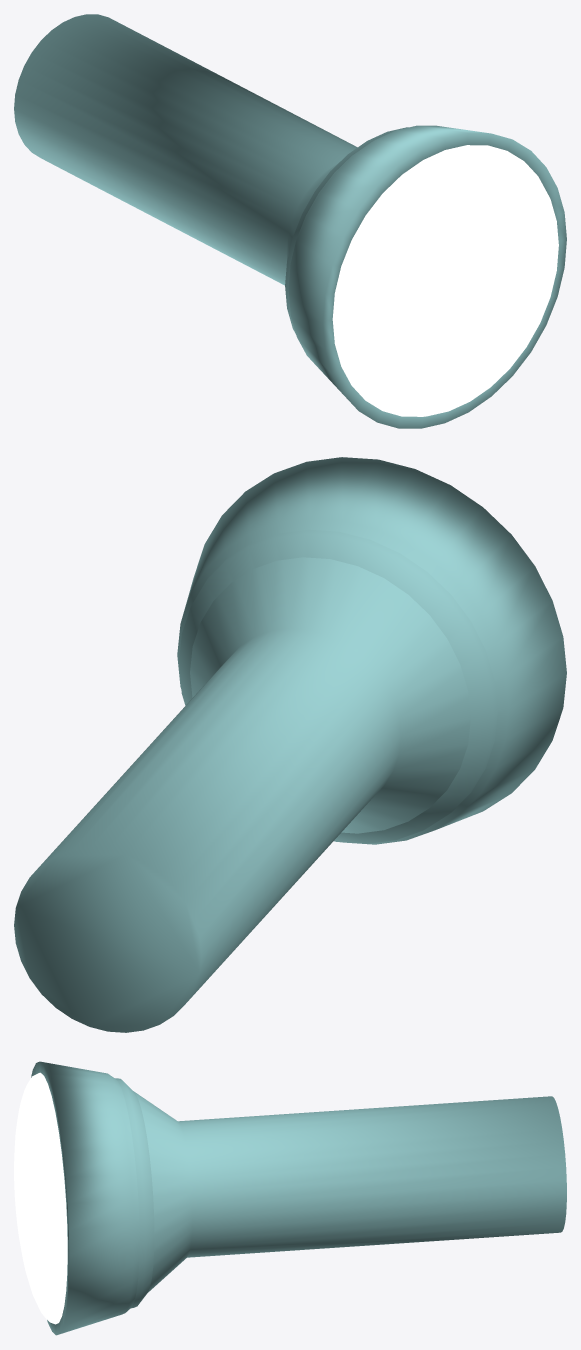
The model's file is flashlight.glb.
The picture shows the model from 3 angles, top to bottom: view 1: azimuth 30°, elevation 25°; view 2: azimuth 150°, elevation 25°; view 3: azimuth 270°, elevation 25°; orthographic projection. The views are drawn at different scales.
Visible parts, largest first — view 1: Cylinder, Sphere; view 2: Cylinder; view 3: Cylinder, Sphere.
Part boxes in pixels (x1,y1,x2,y2): Cylinder: (14,14,566,428); Sphere: (332,145,558,416); Cylinder: (14,457,566,1032); Cylinder: (31,1061,566,1335); Sphere: (14,1072,67,1324).
Bounding box in the file's own units: 0.168 × 0.1627 × 0.3274.
